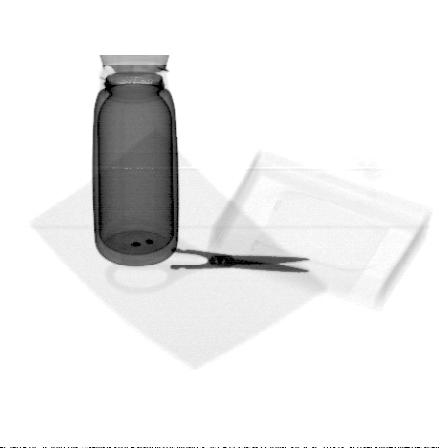Scissors: (105, 222, 310, 292)
